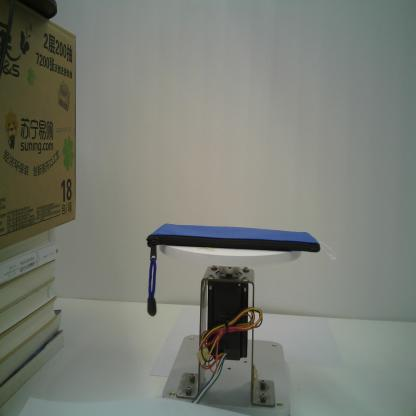Stationery: (146, 221, 322, 319)
